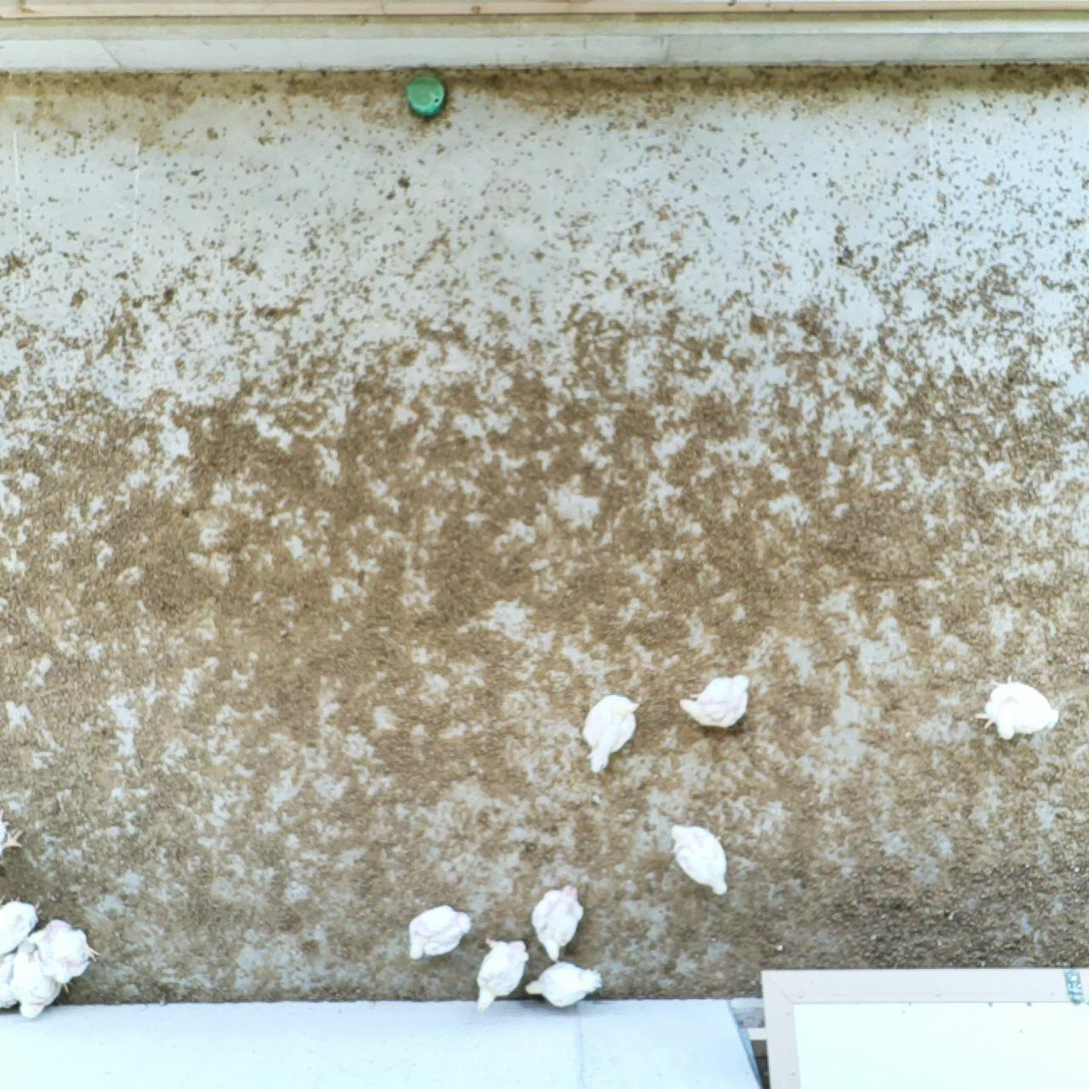chicken: (977, 671, 1069, 744), (27, 913, 101, 998), (576, 692, 646, 777), (667, 819, 734, 901), (530, 878, 585, 966), (472, 938, 535, 1014), (403, 901, 478, 964), (678, 671, 755, 731), (524, 959, 610, 1011), (12, 941, 62, 1023), (0, 895, 46, 956), (0, 951, 26, 1011), (0, 808, 24, 857)
